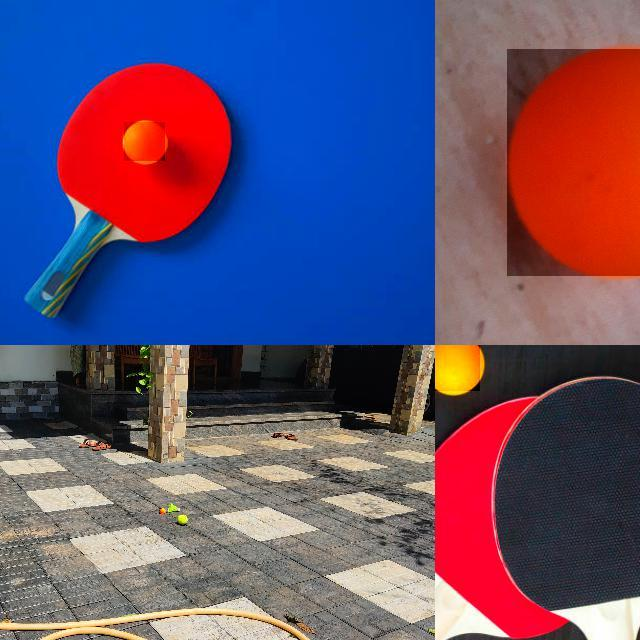ping-pong-ball: (506, 49, 639, 277), (435, 345, 482, 392), (124, 122, 166, 162), (159, 508, 165, 514)
